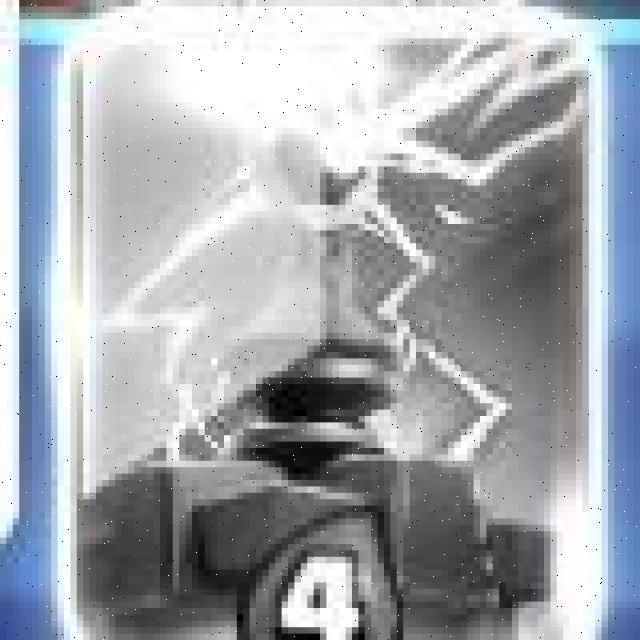Evolved_Tesla: (59, 8, 594, 640)
